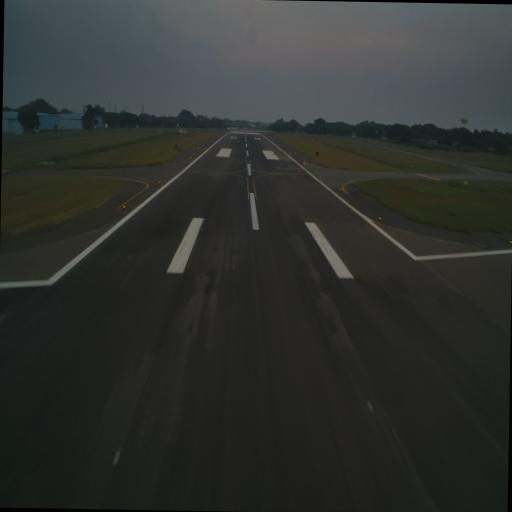on: (338, 184, 344, 193), (157, 177, 162, 186), (378, 214, 382, 222), (122, 202, 126, 210)
